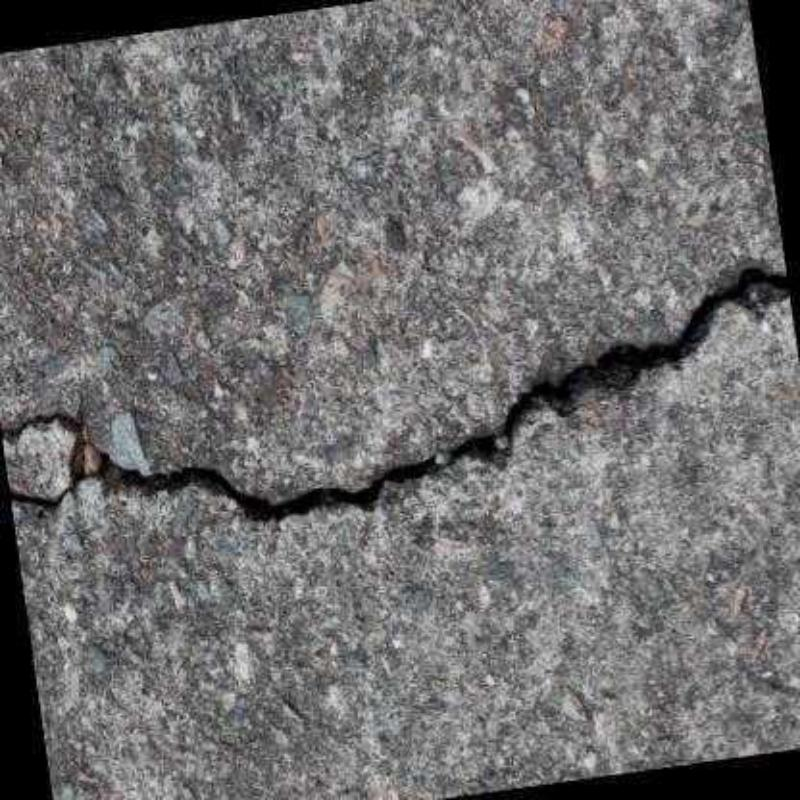pothole: (0, 265, 790, 522)
